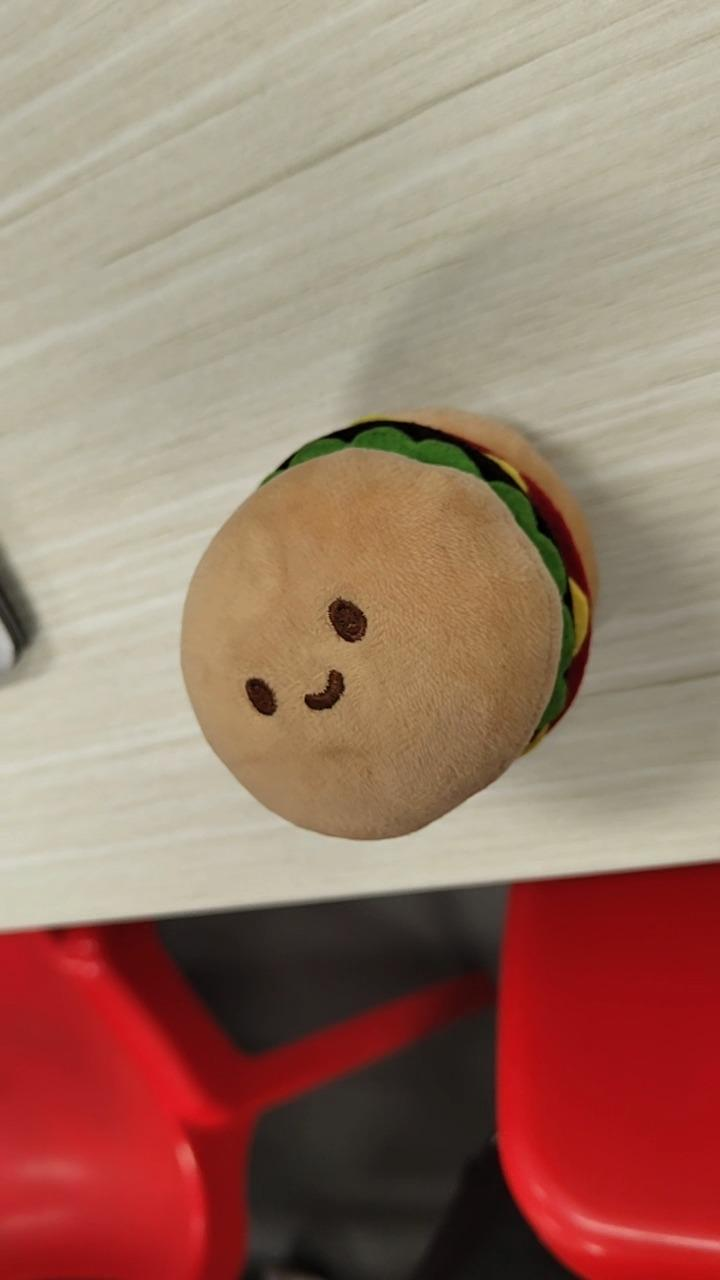hamburger: (178, 405, 598, 842)
